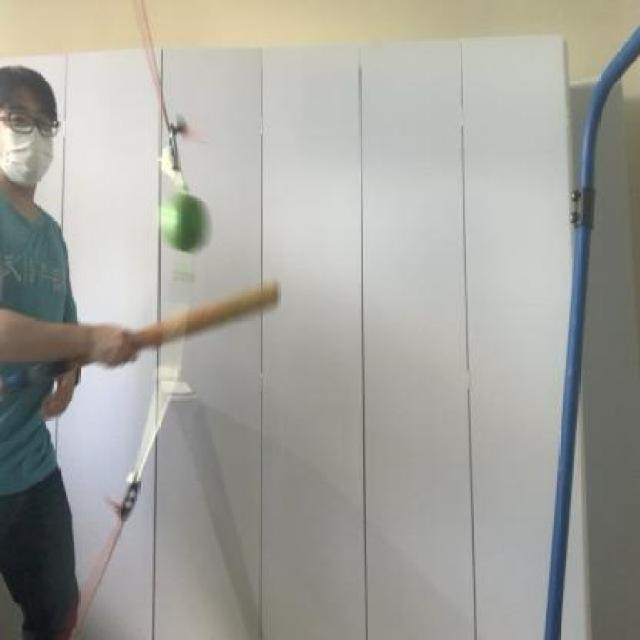baseball: (156, 184, 218, 264)
